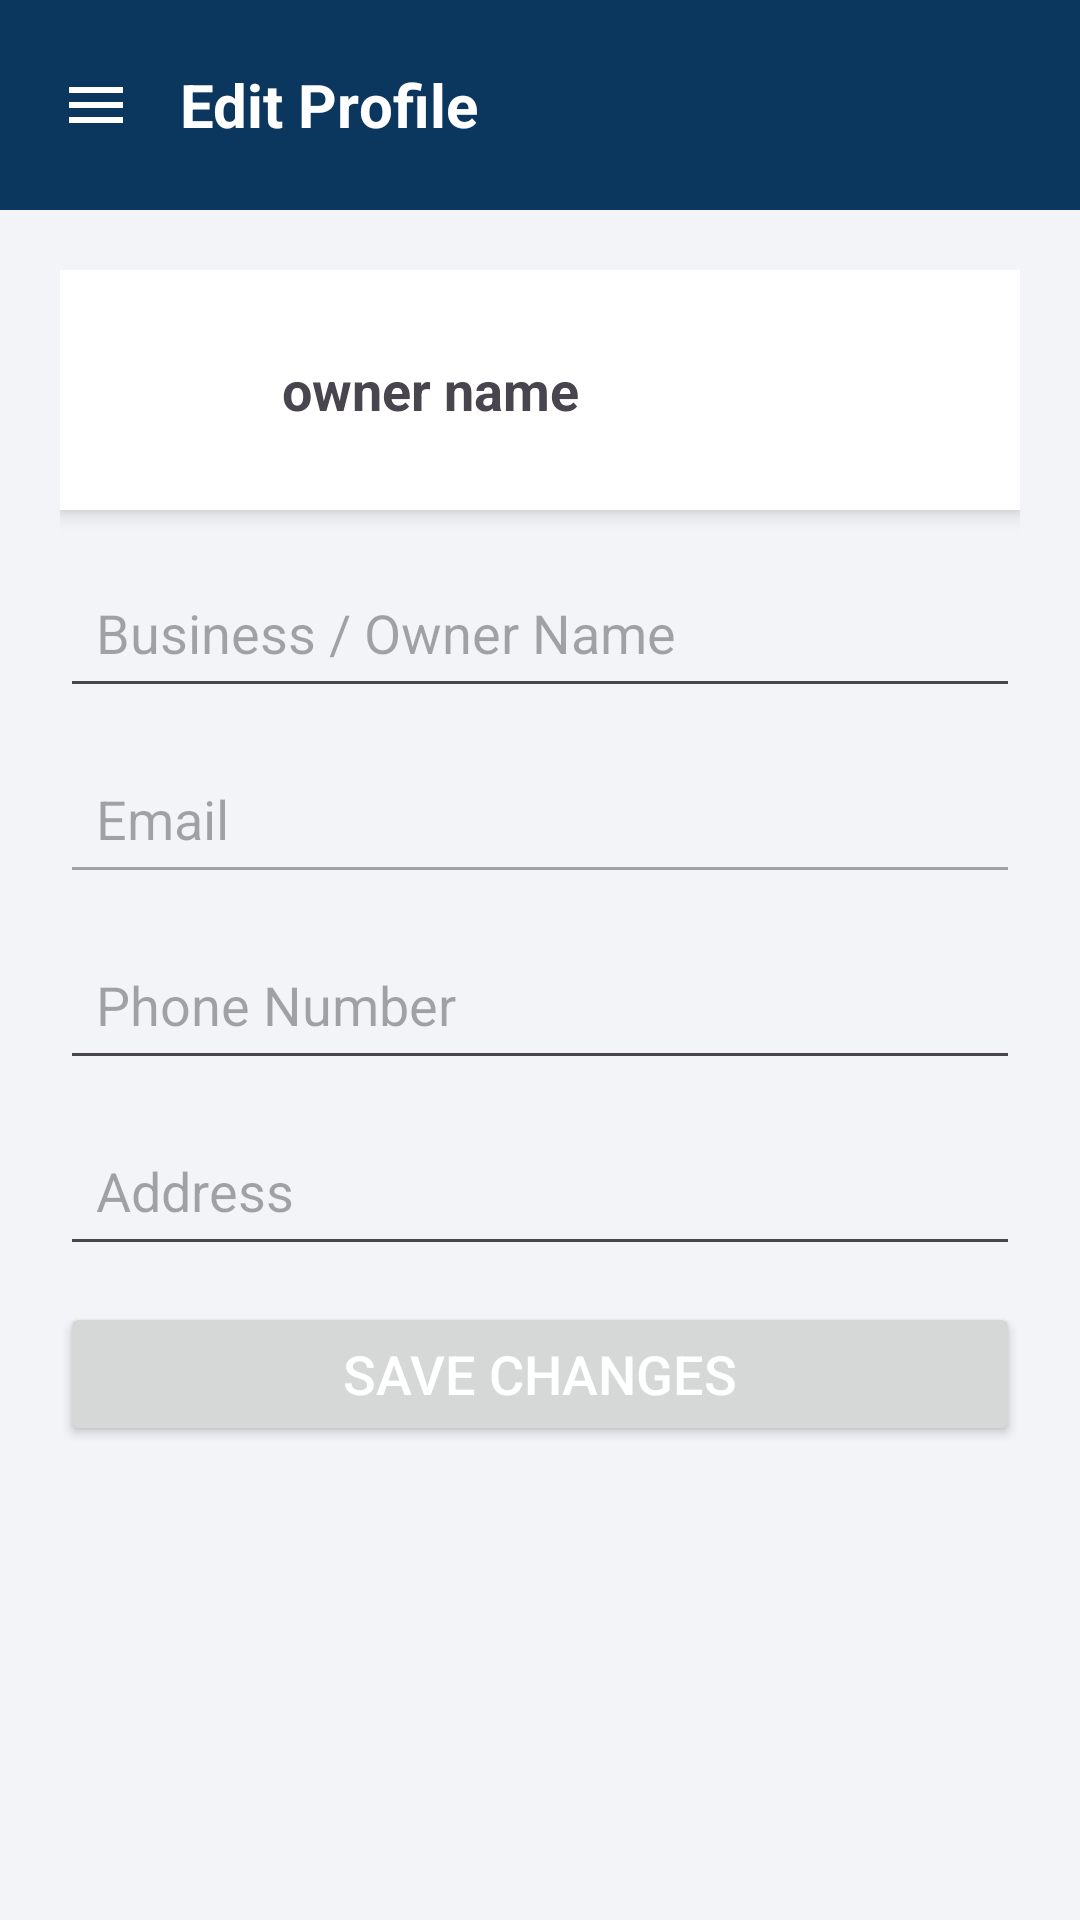

Named icons in this screenshot (1080px×1920px) and their bounding boxes, (x1, y1, x2, y2):
menu: (69, 87, 123, 123)
